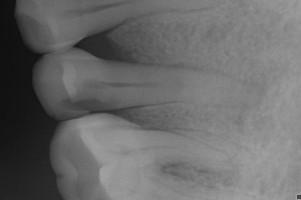Furcation Involvement: (239, 81, 265, 108)
